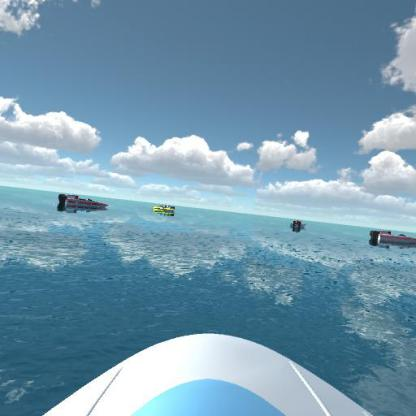usv1: (290, 214, 307, 232)
usv2: (150, 199, 180, 217)
usv3: (54, 191, 113, 216), (365, 224, 415, 252)
